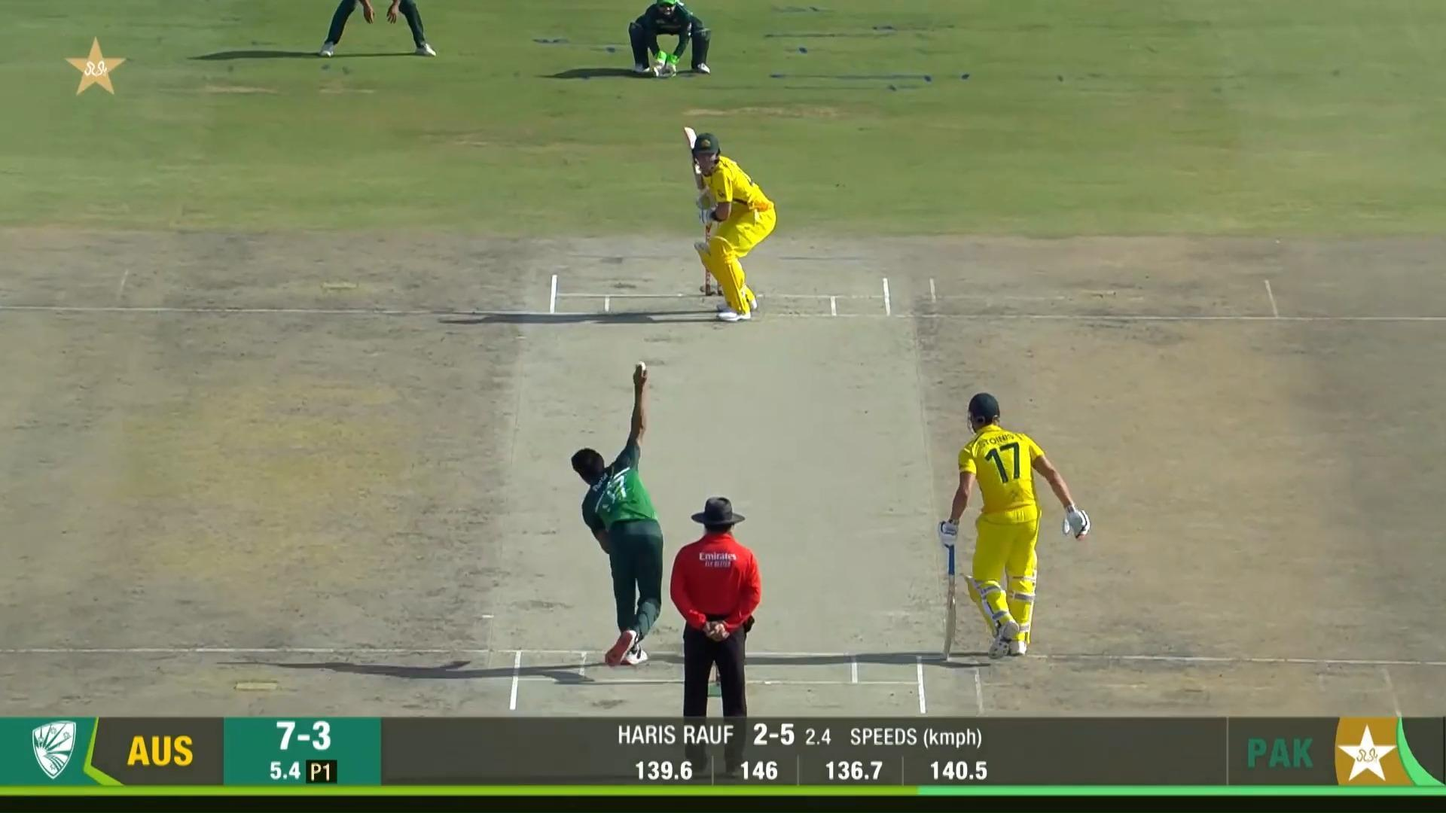BM 1: (682, 127, 776, 322)
BO: (571, 362, 668, 670)
